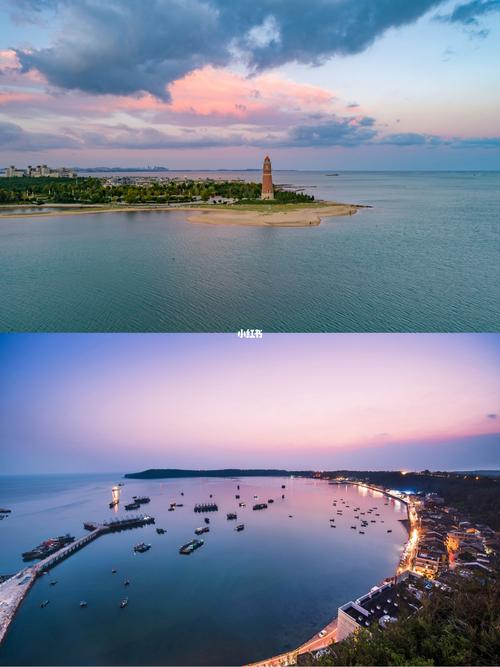sea_river: (211, 201, 482, 331)
sky_cloud: (25, 334, 462, 456)
